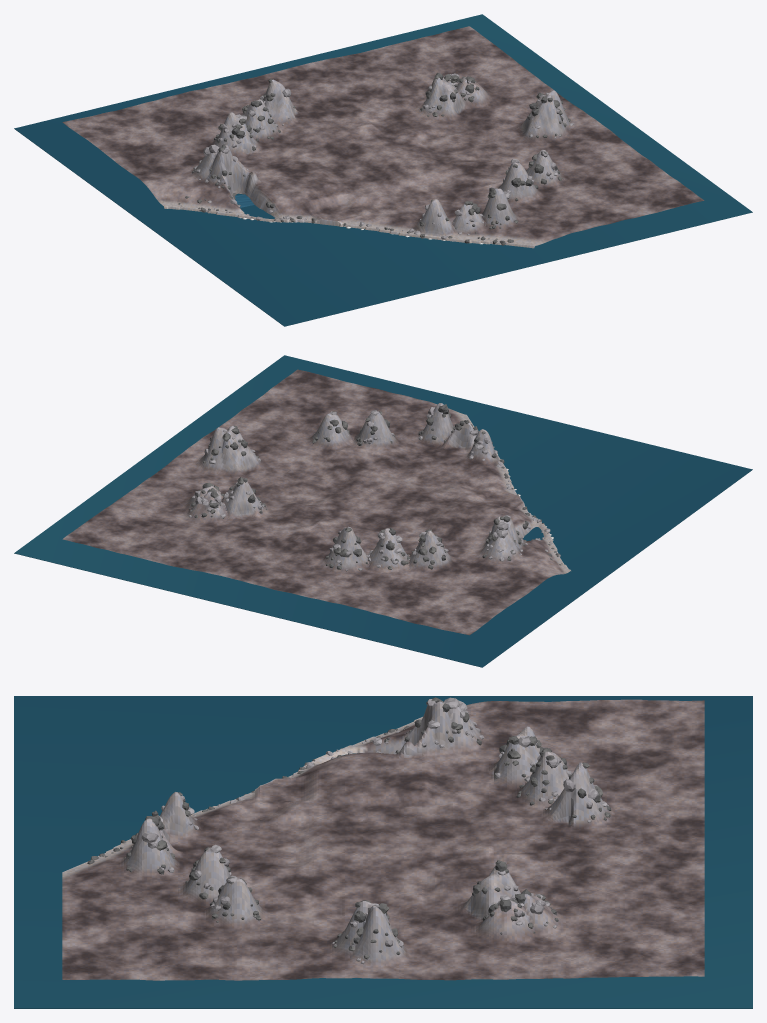
File: Terrain_P1.fbx
3 views of the same model, one above another, from view 1: azimuth 30°, elevation 25°; view 2: azimuth 150°, elevation 25°; view 3: azimuth 270°, elevation 25° (orthographic). The views are drawn at different scales.
Parts seen in each view (by area): view 1: Ground, Sea; view 2: Ground, Sea; view 3: Ground, Sea.
Part boxes in pixels (x1,y1,x2,y2): Ground: [62, 26, 704, 248]; Sea: [14, 14, 752, 326]; Ground: [62, 369, 571, 635]; Sea: [14, 355, 752, 667]; Ground: [62, 699, 704, 980]; Sea: [14, 696, 752, 1008].
Bounding box in the file's own units: 73600 × 8997 × 73600.
